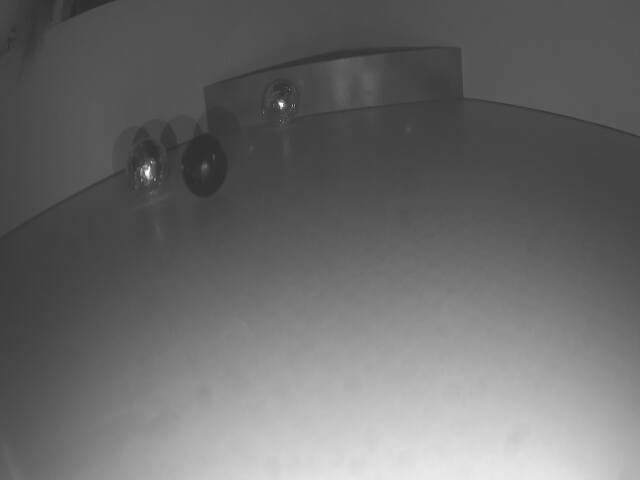Dead: (180, 137, 227, 199)
Live: (126, 137, 168, 199), (261, 80, 301, 127)
Red: (209, 48, 461, 133)
